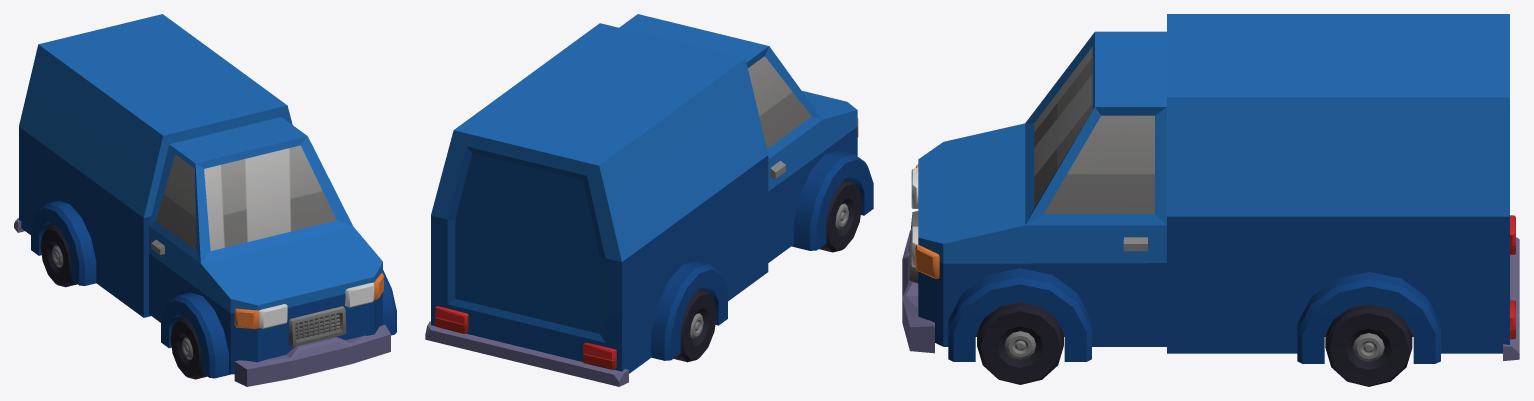
Rendered from Van_3.glb.
3 renders of one model, left to right at view 1: azimuth 30°, elevation 25°; view 2: azimuth 150°, elevation 25°; view 3: azimuth 270°, elevation 25°, orthographic. The views are drawn at different scales.
Parts seen in each view (by area): view 1: Van_3, wheel_FR, wheel_BR; view 2: Van_3, wheel_BR, wheel_FR; view 3: Van_3, wheel_BL, wheel_FL.
Boxes of the visible parts, x1,y1,x2,y2 form: Van_3: [14, 14, 396, 386]; wheel_FR: [170, 317, 207, 379]; wheel_BR: [40, 224, 77, 287]; Van_3: [425, 14, 873, 386]; wheel_BR: [673, 289, 716, 362]; wheel_FR: [819, 179, 861, 252]; Van_3: [902, 14, 1519, 363]; wheel_BL: [1325, 304, 1412, 386]; wheel_FL: [977, 302, 1063, 384].
Size of the model in its own units: 1.23 by 1.19 by 2.48.
5 materials, 5 textured.
